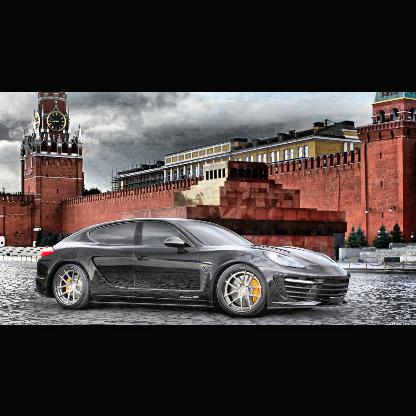Porsche Panamera Sedan 2012: (36, 216, 352, 320)
